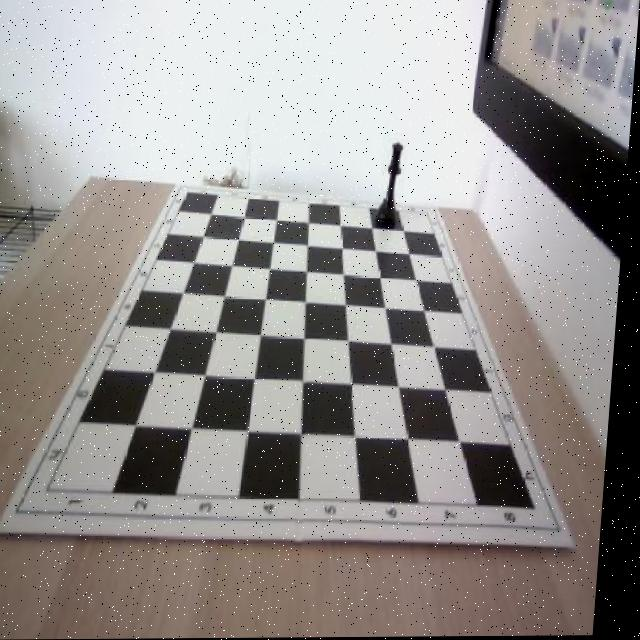black-pawn: (377, 144, 409, 231)
